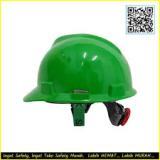Helmet: (23, 32, 137, 104)
